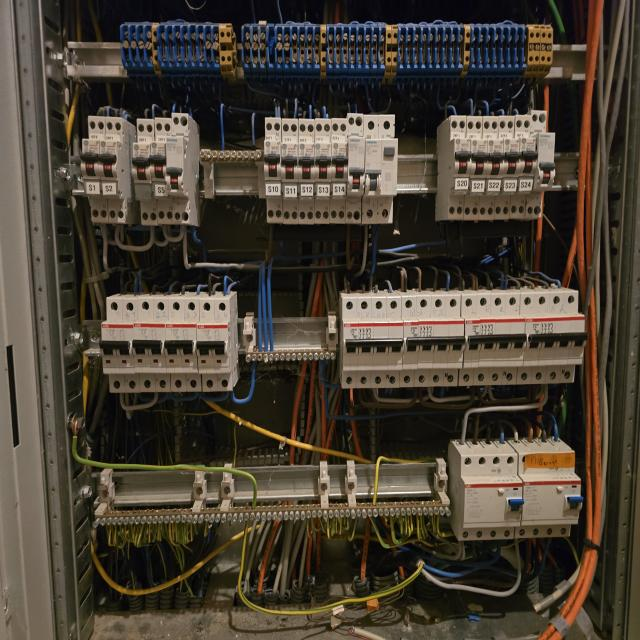FI: (513, 452, 583, 538), (459, 455, 523, 540)
FI_Sicherungskombi: (361, 115, 398, 223)
Sicherungen_230V: (101, 298, 140, 393), (133, 298, 171, 393), (165, 298, 202, 392), (196, 298, 232, 392), (525, 111, 555, 217), (130, 120, 158, 225), (478, 116, 505, 221), (165, 113, 190, 224), (82, 117, 108, 223), (510, 116, 537, 218), (494, 116, 520, 220), (100, 116, 125, 223), (463, 115, 488, 220), (448, 115, 472, 220), (150, 119, 173, 224), (345, 113, 365, 223), (263, 117, 283, 224), (313, 118, 331, 225), (281, 119, 299, 225), (330, 118, 348, 223), (298, 118, 315, 225)
Sicherungen_400V: (516, 292, 588, 384), (459, 294, 528, 386), (399, 295, 465, 386), (342, 297, 404, 388)
Verbinder: (241, 23, 553, 80), (119, 23, 237, 79)
